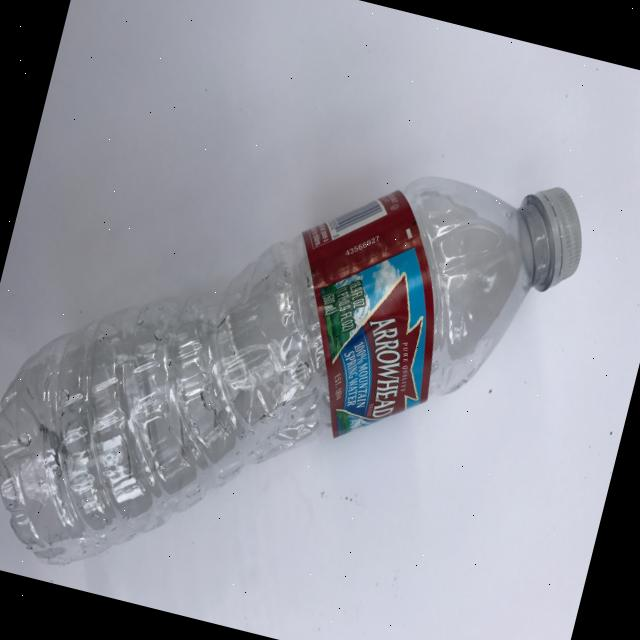plastic: (0, 65, 595, 640)
